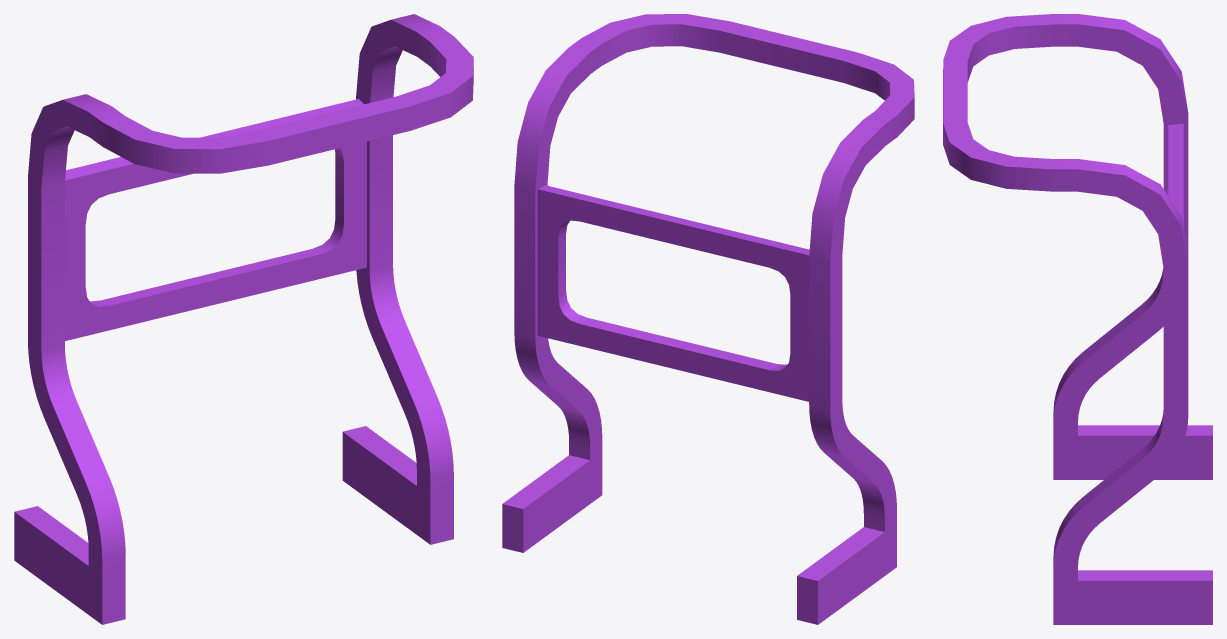
The model's file is Rallings_B_1x1m.FBX.
3 views of the same model, side by side, from view 1: azimuth 30°, elevation 25°; view 2: azimuth 150°, elevation 25°; view 3: azimuth 270°, elevation 25° (orthographic). The views are drawn at different scales.
Parts seen in each view (by area): view 1: Rallings_B_1x1m; view 2: Rallings_B_1x1m; view 3: Rallings_B_1x1m.
Boxes of the visible parts, <box> form: Rallings_B_1x1m: <box>14,14,473,624</box>; Rallings_B_1x1m: <box>502,14,914,624</box>; Rallings_B_1x1m: <box>943,14,1212,624</box>.
Bounding box in the file's own units: 75.01 × 103 × 55.01.
